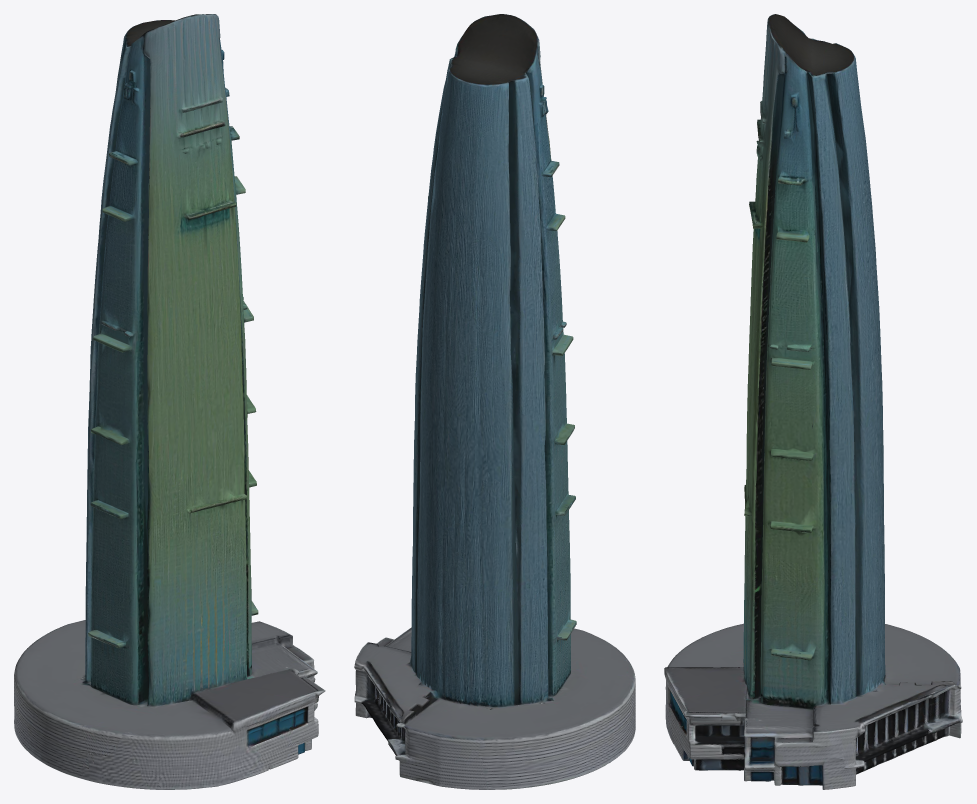
File: TheSpire_Higgsfield_Raw.glb
3 views of the same model, side by side, from view 1: azimuth 30°, elevation 25°; view 2: azimuth 150°, elevation 25°; view 3: azimuth 270°, elevation 25° (orthographic). The views are drawn at different scales.
Visible parts, largest first — view 1: tripo_node_d5c567b6-9ab4-47fd-876e-ca29edc3c62a; view 2: tripo_node_d5c567b6-9ab4-47fd-876e-ca29edc3c62a; view 3: tripo_node_d5c567b6-9ab4-47fd-876e-ca29edc3c62a.
Part boxes in pixels (box(x1,y1,x2,y2)): tripo_node_d5c567b6-9ab4-47fd-876e-ca29edc3c62a: box(14, 14, 325, 789); tripo_node_d5c567b6-9ab4-47fd-876e-ca29edc3c62a: box(354, 14, 635, 789); tripo_node_d5c567b6-9ab4-47fd-876e-ca29edc3c62a: box(664, 14, 962, 789).
Size of the model in its own units: 0.3771 by 1 by 0.3808.
Materials: 1 (1 with a texture image).
